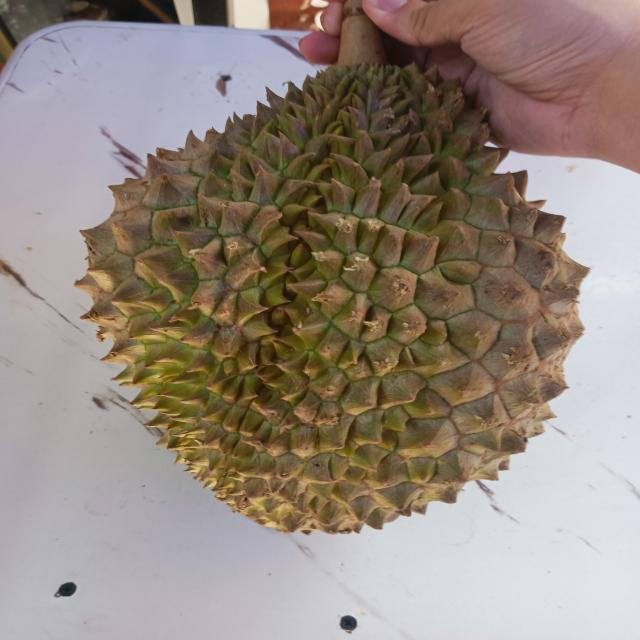mature: (76, 65, 588, 534)
